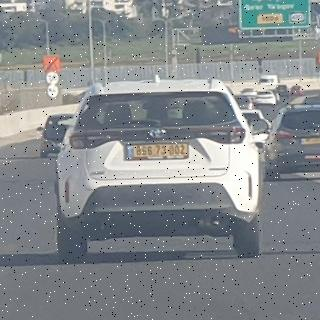LicensePlate: (134, 143, 187, 157)
